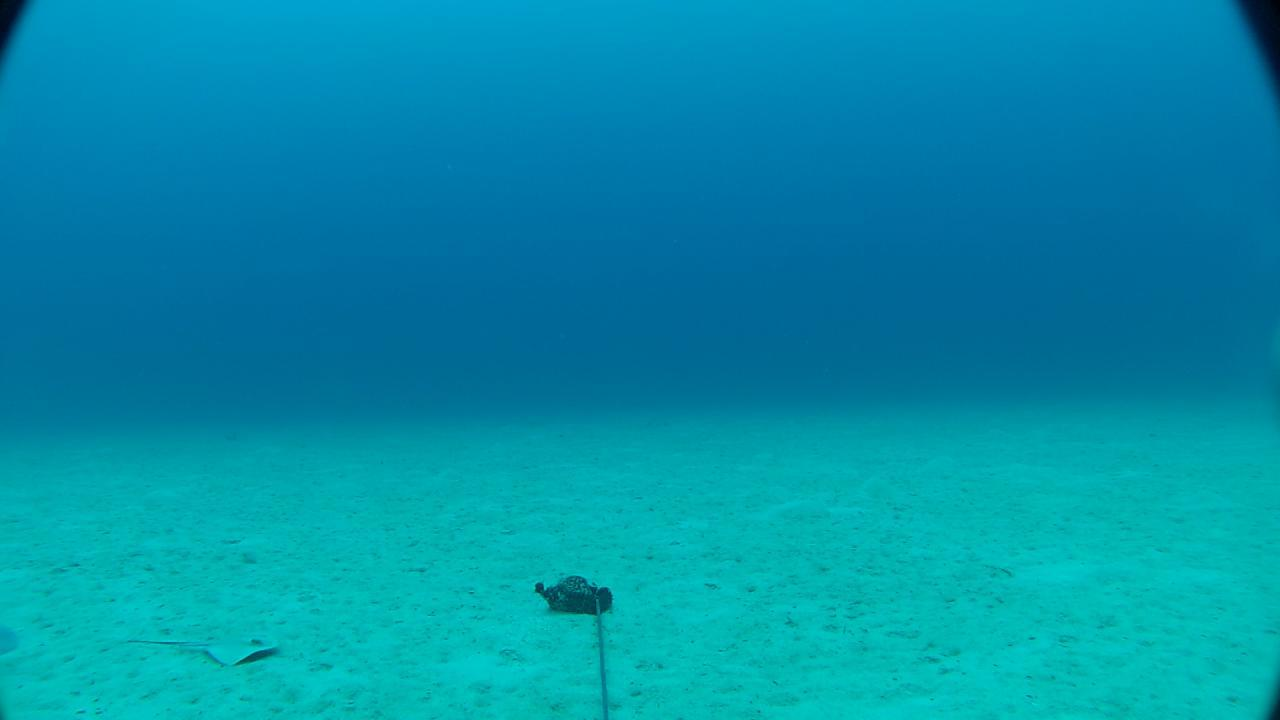dasyatis: (120, 633, 280, 668)
